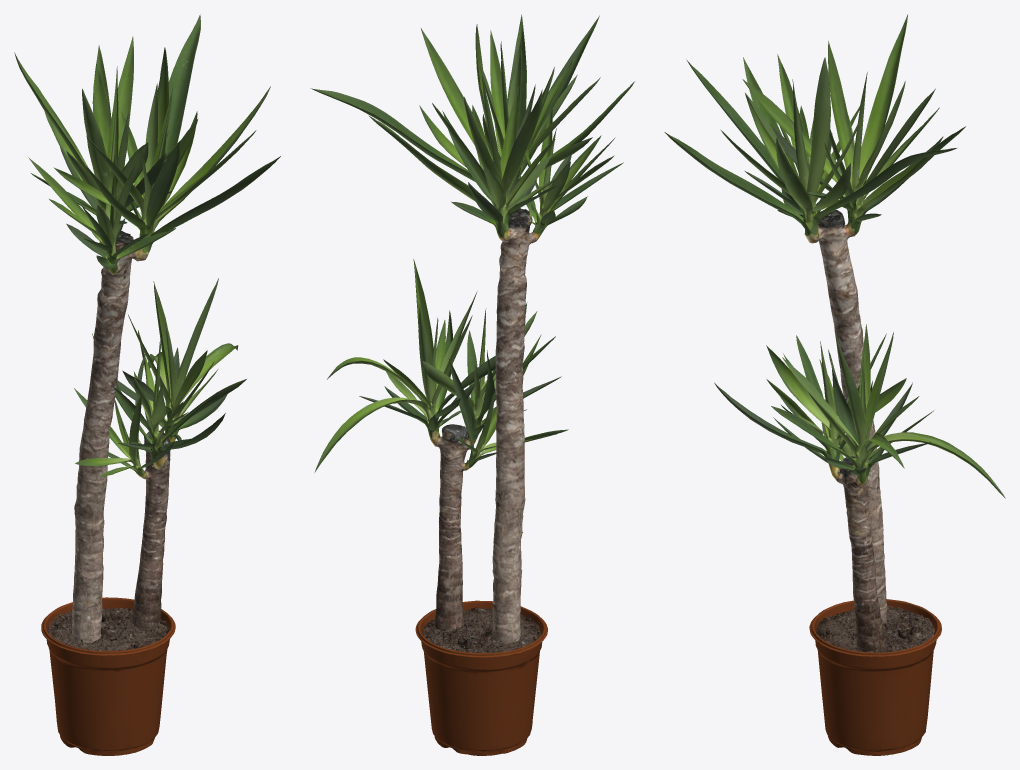
File: i_kea_yucca_elephantipes_planta.glb
The picture shows the model from 3 angles, left to right: view 1: azimuth 30°, elevation 25°; view 2: azimuth 150°, elevation 25°; view 3: azimuth 270°, elevation 25°; orthographic projection.
Visible parts, largest first — view 1: 10329308-YUCCA ELEPHANTIPES001_1; view 2: 10329308-YUCCA ELEPHANTIPES001_1; view 3: 10329308-YUCCA ELEPHANTIPES001_1.
Boxes of the visible parts, bbox=[...] form: 10329308-YUCCA ELEPHANTIPES001_1: bbox=[14, 14, 280, 755]; 10329308-YUCCA ELEPHANTIPES001_1: bbox=[310, 14, 634, 755]; 10329308-YUCCA ELEPHANTIPES001_1: bbox=[664, 14, 1005, 755].
Bounding box in the file's own units: 0.4952 × 1.37 × 0.6127.
Materials: 1 (1 with a texture image).
